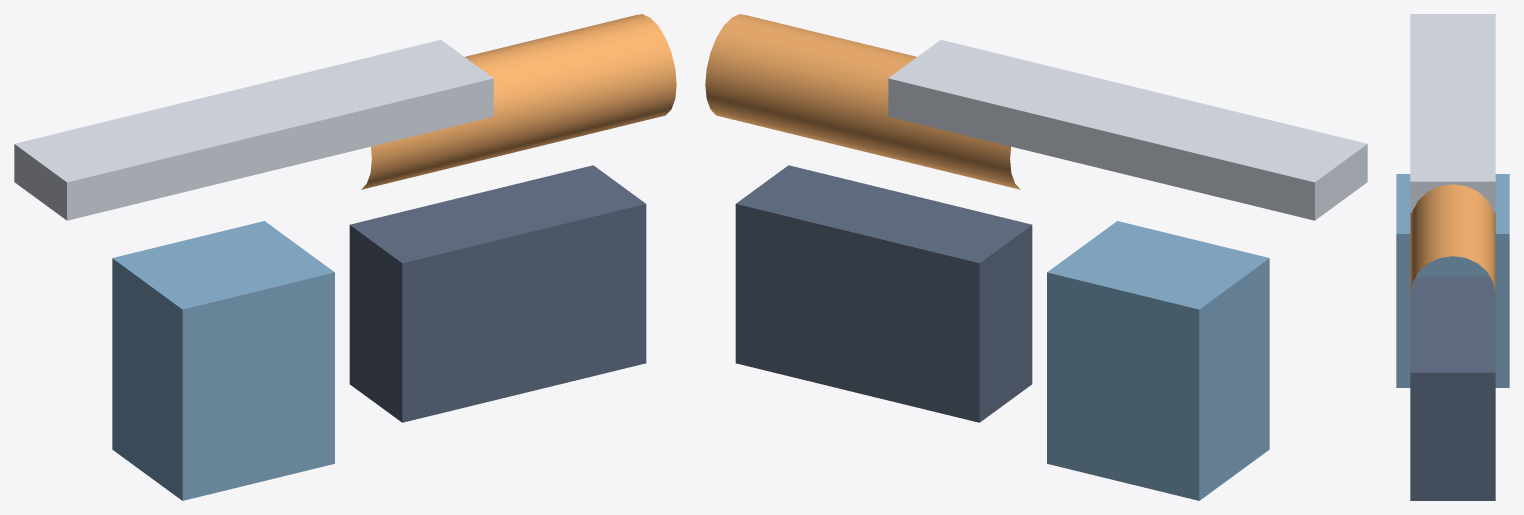
File: transducers_instrumentation.glb
3 renders of one model, left to right at view 1: azimuth 30°, elevation 25°; view 2: azimuth 150°, elevation 25°; view 3: azimuth 270°, elevation 25°, orthographic. The views are drawn at different scales.
Visible parts, largest first — view 1: DigitalSensorIndicatorScope, SBeamPrecisionLoadCell, CantileverStrainGaugeBeam, LVDTDisplacementCoreTube; view 2: DigitalSensorIndicatorScope, SBeamPrecisionLoadCell, CantileverStrainGaugeBeam, LVDTDisplacementCoreTube; view 3: DigitalSensorIndicatorScope, CantileverStrainGaugeBeam, SBeamPrecisionLoadCell, LVDTDisplacementCoreTube.
Part boxes in pixels (<box>): DigitalSensorIndicatorScope: <box>349,165,646,422</box>; SBeamPrecisionLoadCell: <box>112,221,334,500</box>; CantileverStrainGaugeBeam: <box>14,40,493,220</box>; LVDTDisplacementCoreTube: <box>361,14,676,189</box>; DigitalSensorIndicatorScope: <box>735,165,1032,422</box>; SBeamPrecisionLoadCell: <box>1047,221,1269,500</box>; CantileverStrainGaugeBeam: <box>888,40,1367,220</box>; LVDTDisplacementCoreTube: <box>705,14,1020,189</box>; DigitalSensorIndicatorScope: <box>1410,276,1495,500</box>; CantileverStrainGaugeBeam: <box>1410,14,1495,212</box>; SBeamPrecisionLoadCell: <box>1396,174,1509,387</box>; LVDTDisplacementCoreTube: <box>1410,184,1495,294</box>.
Bounding box in the file's own units: 2 × 1.06 × 0.4.
